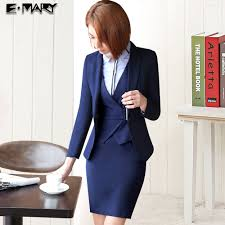F_W_suit jacket: (60, 43, 163, 174)
F_tailored skirt: (81, 133, 149, 221)
